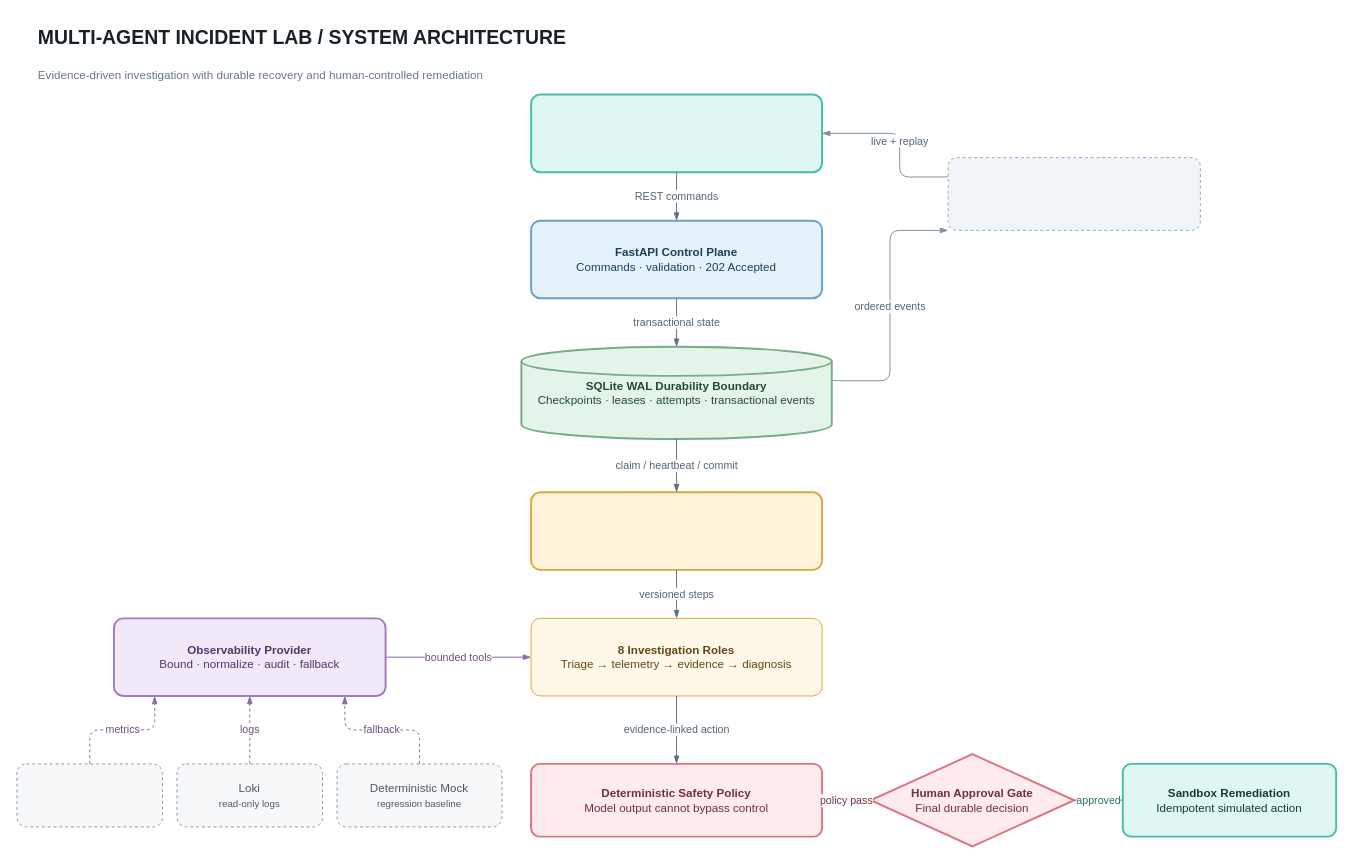
The diagram is 1354 pixels wide and 863 high, and some of its shapes have lost their labels. The shapes that lost their labels are listed below. From the top down, each one's box as (x1, y1, x2, y2) in pixels, then its label:
(530, 93, 823, 173): React Command Center Live investigation · approval · replay
(947, 157, 1200, 230): Replayable SSE Last-Event-ID · ordered events
(530, 491, 823, 570): Durable Worker Runtime Atomic claim · heartbeat · fencing · resume
(16, 763, 162, 827): Prometheus read-only metrics
